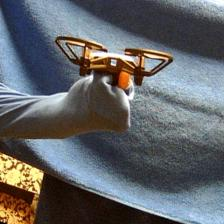drone: (54, 35, 174, 87)
